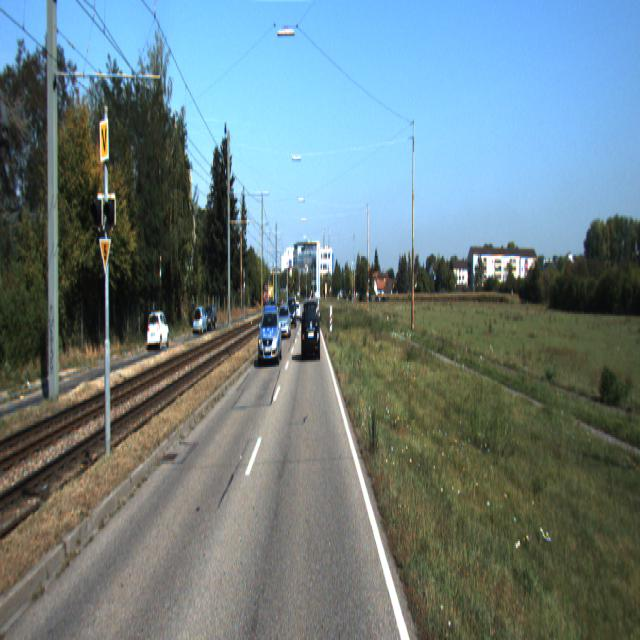Car: (258, 293, 283, 359), (302, 300, 321, 362), (147, 312, 170, 354), (193, 307, 208, 338), (278, 304, 291, 339), (287, 298, 297, 328)
